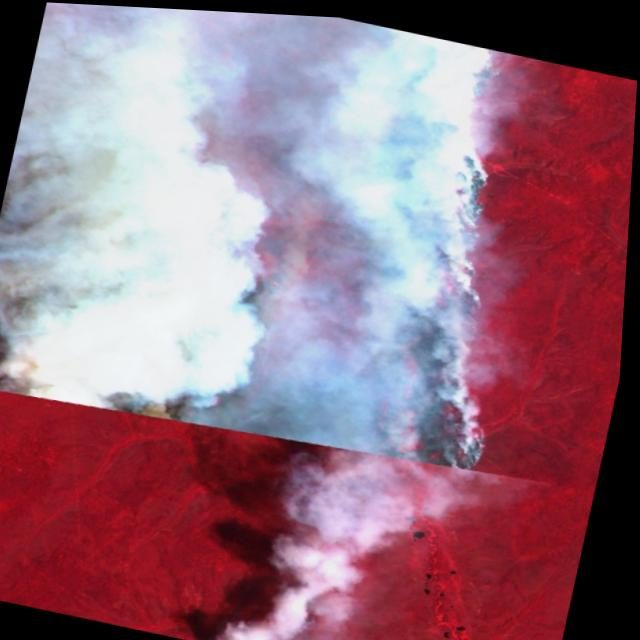fire: (84, 4, 587, 501)
